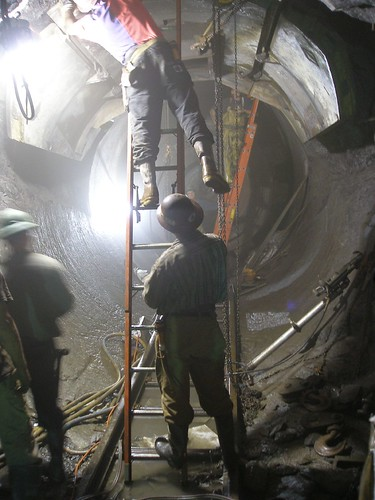person hardhat: (130, 192, 253, 494), (1, 202, 79, 483)
